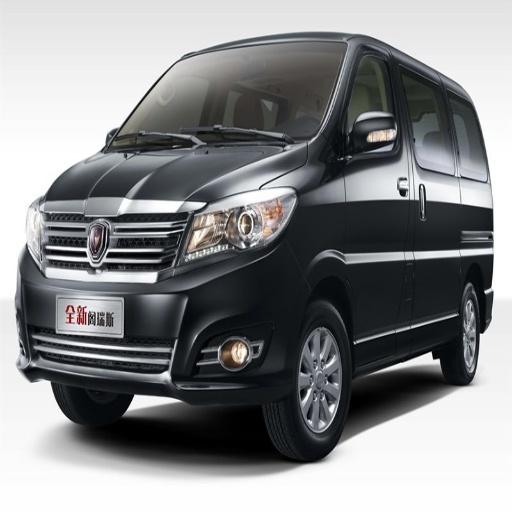front_bumper: (19, 202, 306, 405)
front_glass: (105, 42, 347, 150)
front_left_door: (337, 44, 417, 340)
trunk: (434, 246, 491, 299)
